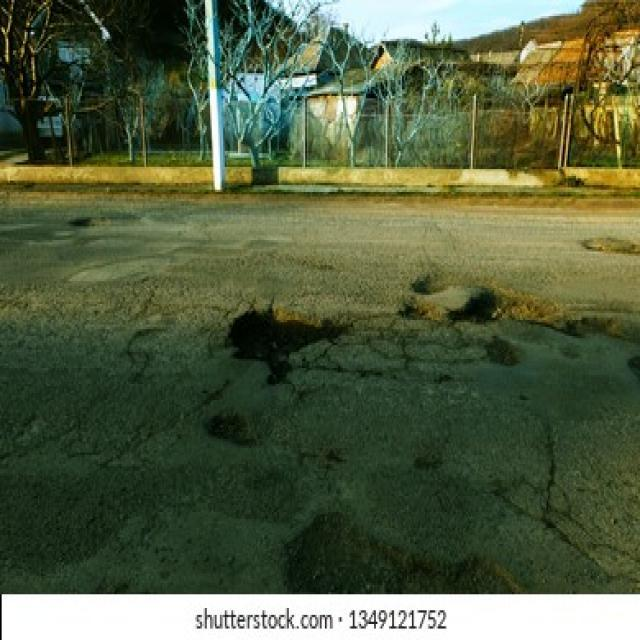Pothole: (230, 302, 348, 386), (453, 288, 556, 327), (556, 316, 640, 340), (208, 409, 256, 450), (584, 235, 640, 254), (69, 214, 143, 227), (488, 338, 518, 368), (414, 272, 452, 295), (399, 302, 440, 322), (627, 352, 640, 384)
